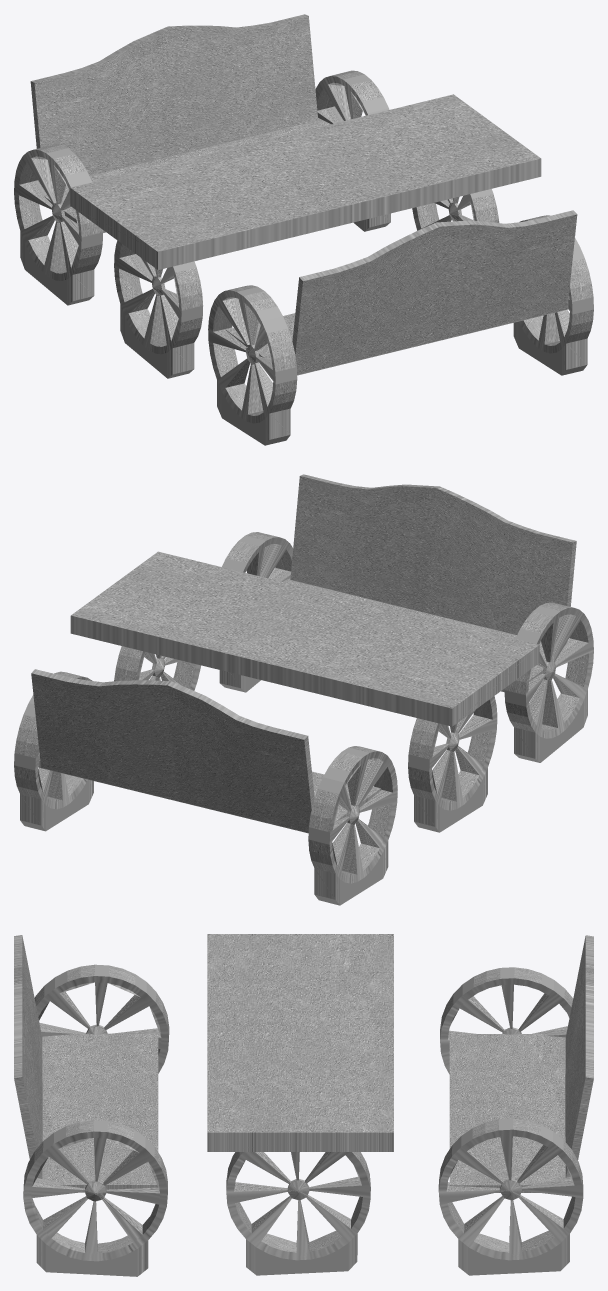
The model's file is TableSet3.fbx.
3 views of the same model, one above another, from view 1: azimuth 30°, elevation 25°; view 2: azimuth 150°, elevation 25°; view 3: azimuth 270°, elevation 25° (orthographic). The views are drawn at different scales.
Visible parts, largest first — view 1: Plane, Plane.003, Plane.005, Cylinder.003, Cylinder.001, Cylinder, Plane.002, Plane.004; view 2: Plane, Plane.005, Plane.003, Cylinder.001, Cylinder.003, Cylinder, Plane.004, Plane.002; view 3: Plane, Cylinder.003, Cylinder.001, Plane.004, Plane.002, Cylinder, Plane.003, Plane.005.
Part boxes in pixels (<box>): Plane: <box>70,94,541,269</box>; Plane.003: <box>30,14,318,175</box>; Plane.005: <box>292,210,577,374</box>; Cylinder.003: <box>208,215,593,445</box>; Cylinder.001: <box>14,70,390,305</box>; Cylinder: <box>114,189,499,378</box>; Plane.002: <box>44,118,330,232</box>; Plane.004: <box>226,302,568,375</box>; Plane: <box>70,551,539,726</box>; Plane.005: <box>290,474,576,644</box>; Plane.003: <box>31,669,314,832</box>; Cylinder.001: <box>14,671,397,905</box>; Cylinder.003: <box>219,532,593,762</box>; Cylinder: <box>114,646,497,832</box>; Plane.004: <box>283,578,564,692</box>; Plane.002: <box>38,760,380,833</box>; Plane: <box>207,934,393,1151</box>; Cylinder.003: <box>23,964,169,1276</box>; Cylinder.001: <box>438,967,583,1275</box>; Plane.004: <box>42,1033,158,1192</box>; Plane.002: <box>449,1034,565,1192</box>; Cylinder: <box>226,1152,370,1275</box>; Plane.003: <box>565,935,593,1177</box>; Plane.005: <box>14,935,42,1178</box>.
Size of the model in its own units: 227 by 113 by 280.
Materials: 8 (8 with a texture image).
